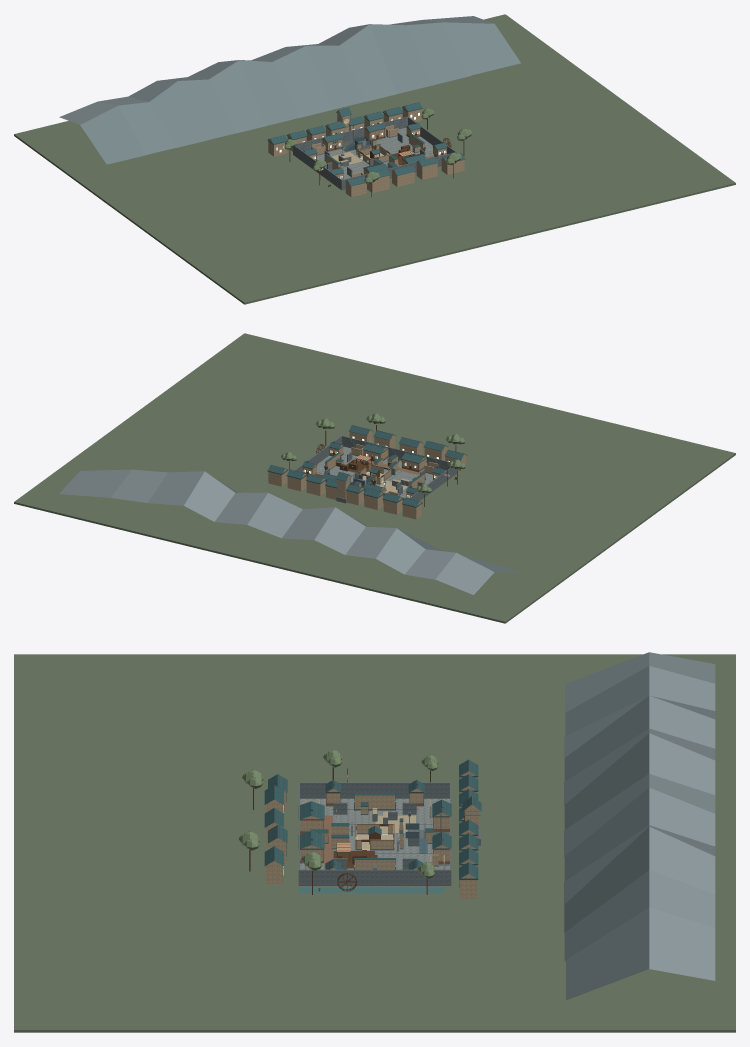
Rendered from homeward_visual.glb.
3 views of the same model, one above another, from view 1: azimuth 30°, elevation 25°; view 2: azimuth 150°, elevation 25°; view 3: azimuth 270°, elevation 25° (orthographic). The views are drawn at different scales.
Parts seen in each view (by area): view 1: homeward_clock_station_and_canal, distant_ridges, town_details, VIS_floor, VIS_edge_z-1, VIS_edge_x-1; view 2: homeward_clock_station_and_canal, distant_ridges, town_details, VIS_floor, VIS_edge_z1, courtyard_surface_identity; view 3: homeward_clock_station_and_canal, distant_ridges, town_details, VIS_floor, VIS_edge_x1, VIS_edge_x-1, courtyard_surface_identity, civic_facade_craft.
Part boxes in pixels (<box>): homeward_clock_station_and_canal: <box>14,14,735,304</box>; distant_ridges: <box>59,16,520,164</box>; town_details: <box>267,102,448,186</box>; VIS_floor: <box>317,127,434,179</box>; VIS_edge_z-1: <box>295,116,408,151</box>; VIS_edge_x-1: <box>293,145,342,190</box>; homeward_clock_station_and_canal: <box>14,333,735,623</box>; distant_ridges: <box>59,469,520,594</box>; town_details: <box>267,437,456,519</box>; VIS_floor: <box>315,446,432,497</box>; VIS_edge_z1: <box>342,436,450,470</box>; courtyard_surface_identity: <box>319,457,430,492</box>; homeward_clock_station_and_canal: <box>14,654,735,1032</box>; distant_ridges: <box>564,652,715,1000</box>; town_details: <box>298,759,478,898</box>; VIS_floor: <box>300,798,449,869</box>; VIS_edge_x1: <box>298,869,450,885</box>; VIS_edge_x-1: <box>300,782,450,798</box>; courtyard_surface_identity: <box>324,815,449,868</box>; civic_facade_craft: <box>300,792,449,869</box>.
Size of the model in its own units: 256 by 25.93 by 208.
23 materials, 12 textured.
